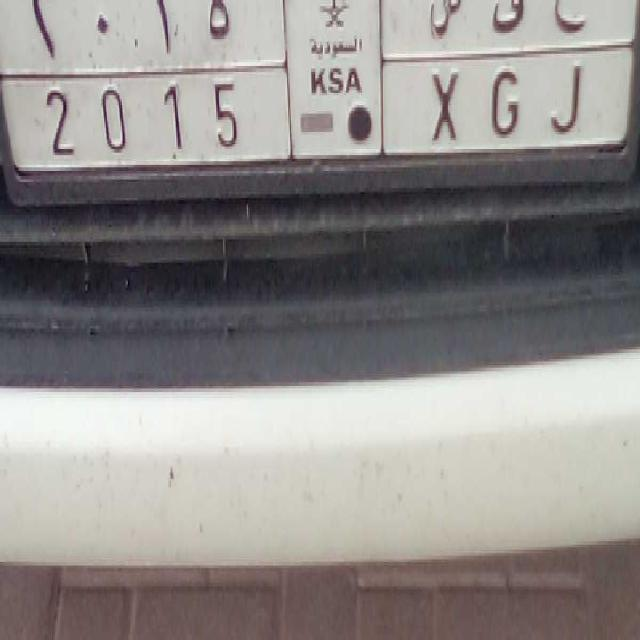license_plate: (0, 55, 620, 169)
